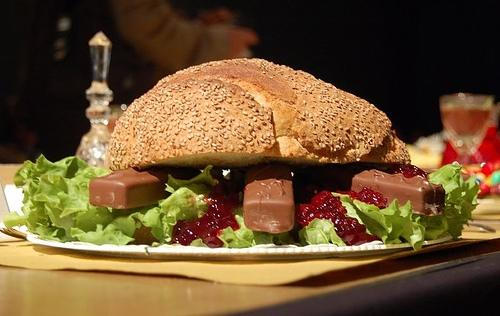lettuce: (34, 167, 162, 246), (332, 191, 426, 250), (216, 206, 296, 248), (298, 218, 347, 247), (273, 219, 306, 247)
